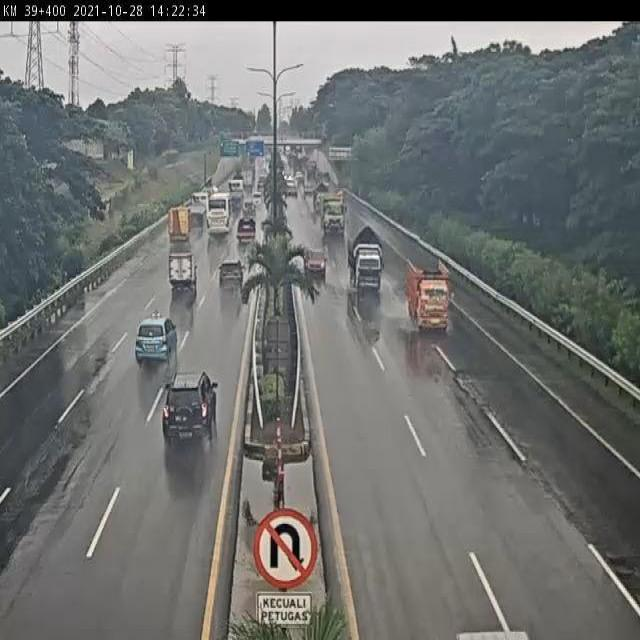big bus: (204, 192, 234, 239)
car: (160, 369, 218, 443), (136, 313, 179, 364), (168, 252, 199, 292), (218, 259, 245, 293), (303, 245, 328, 276)
truck-l-: (320, 195, 347, 236)
truck-m-: (347, 227, 385, 294)
truck-s-: (405, 258, 451, 334), (166, 205, 192, 243), (236, 216, 256, 243)
